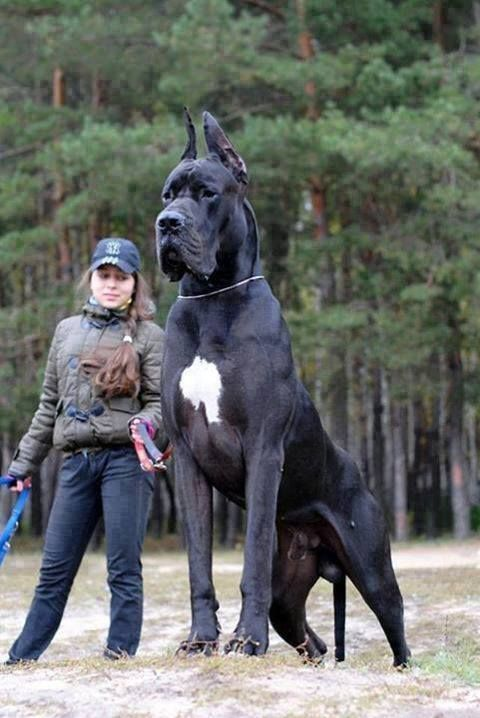Dog: (157, 99, 419, 677)
Person: (10, 232, 167, 659)
